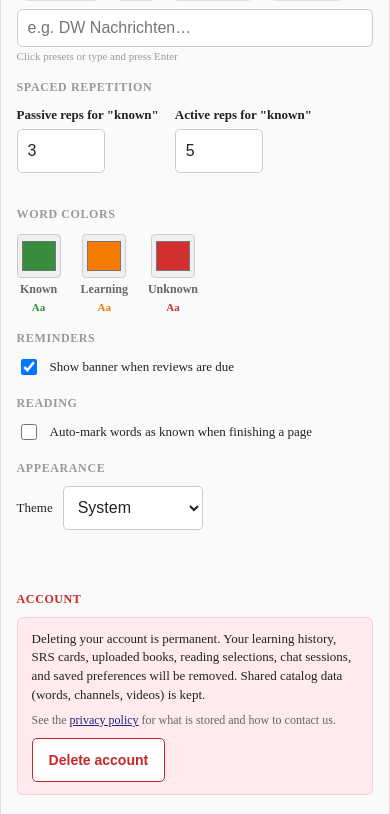
Test: SettingsPanel — account deletion › confirm step shows a labelled password field and disables confirm until filled
This screenshot has width=390, height=814.
(page scrolled)
Step 1. Click the button with test id "account-delete-start" → (98,760), box x1=32 y1=738 x2=165 y2=782
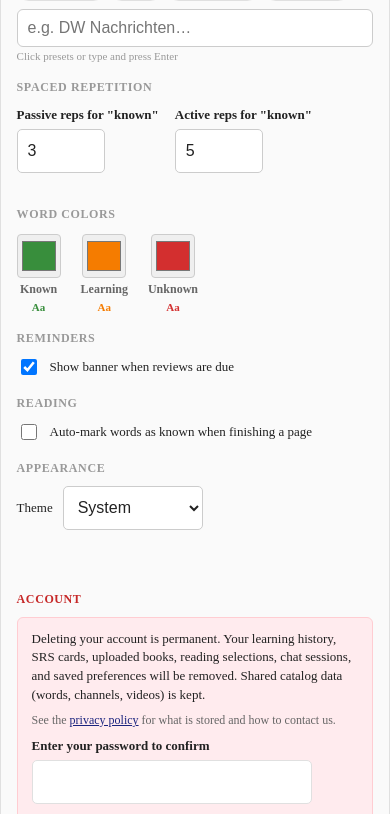
expect the password field labelled "Enter your password to confirm" is shown: met
Step 2. Type "pw" into the password field labelled "Enter your password to confirm" → (172,782), box x1=32 y1=760 x2=312 y2=804
(page scrolled)
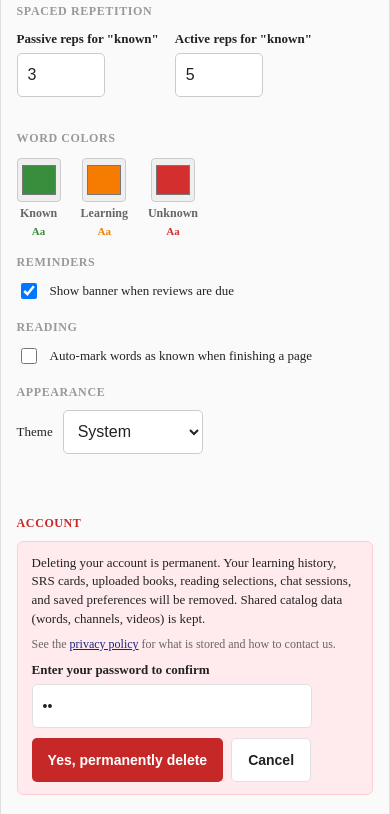
expect the button with test id "account-delete-confirm" is enabled: met, box x1=32 y1=738 x2=223 y2=782
